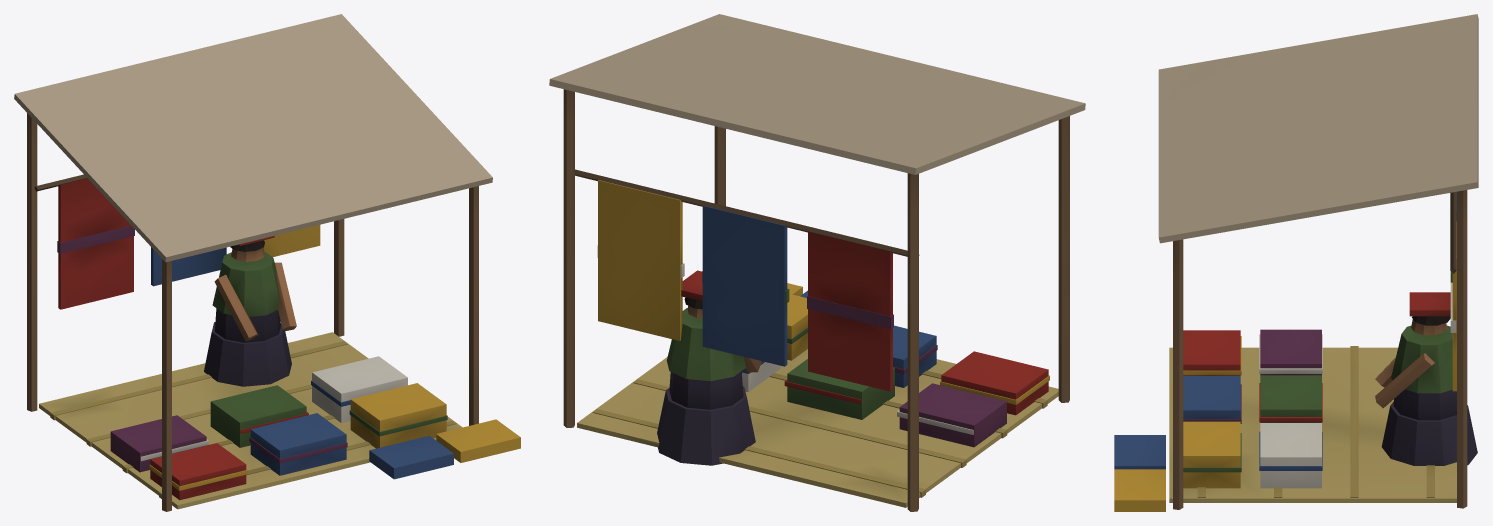
The model's file is stall-cloth.glb.
3 views of the same model, side by side, from view 1: azimuth 30°, elevation 25°; view 2: azimuth 150°, elevation 25°; view 3: azimuth 270°, elevation 25° (orthographic). The views are drawn at different scales.
Parts seen in each view (by area): view 1: base; view 2: base; view 3: base.
Boxes of the visible parts, left/top/right/bottom form: base: left=14, top=14, right=520, bottom=511; base: left=549, top=14, right=1085, bottom=511; base: left=1114, top=14, right=1478, bottom=511.
Bounding box in the file's own units: 2.5 × 2.25 × 2.25.
